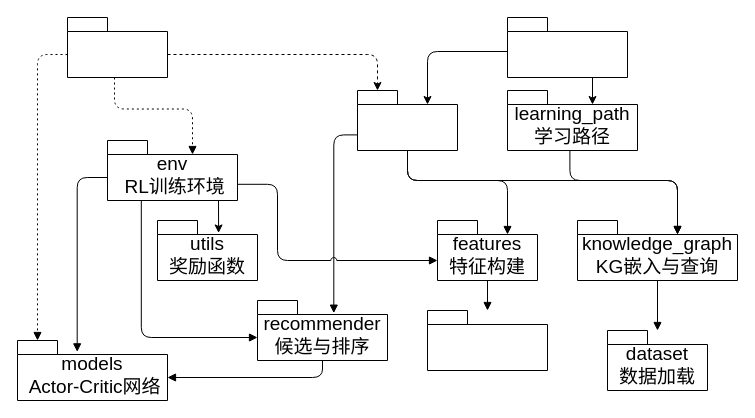
The diagram is 755 pixels wide and 418 high, and some of its shapes have lost their labels. Here are the shapes that lost their labels. From the top down, the box of each, then its label:
(66, 16, 168, 78): config.py 全局配置
(506, 16, 628, 78): api FastAPI入口
(356, 90, 458, 150): services 推荐编排
(426, 310, 548, 370): data MySQL访问
